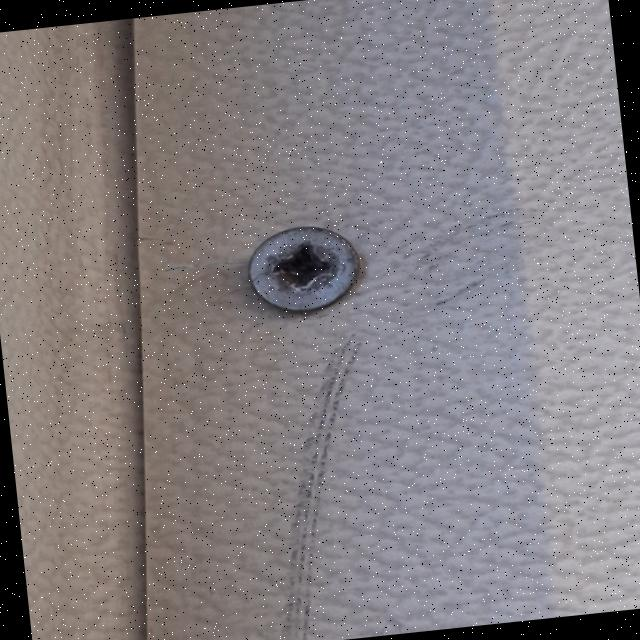Phillips: (243, 218, 364, 318)
